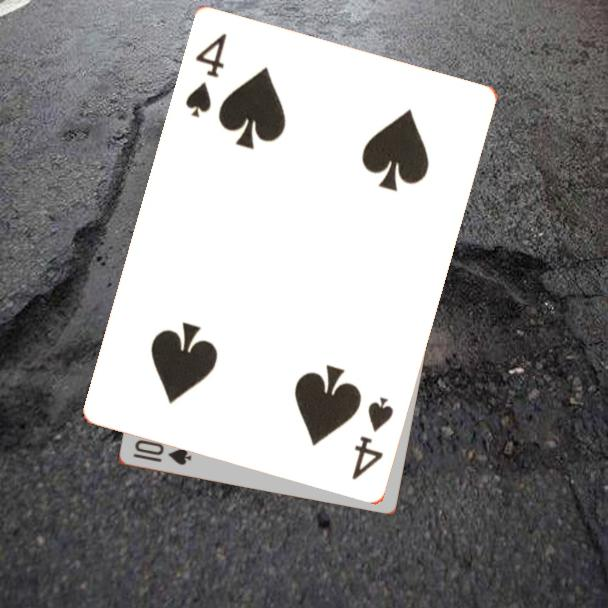s04: (182, 30, 230, 122), (349, 394, 397, 483)
s10: (129, 436, 194, 468)
